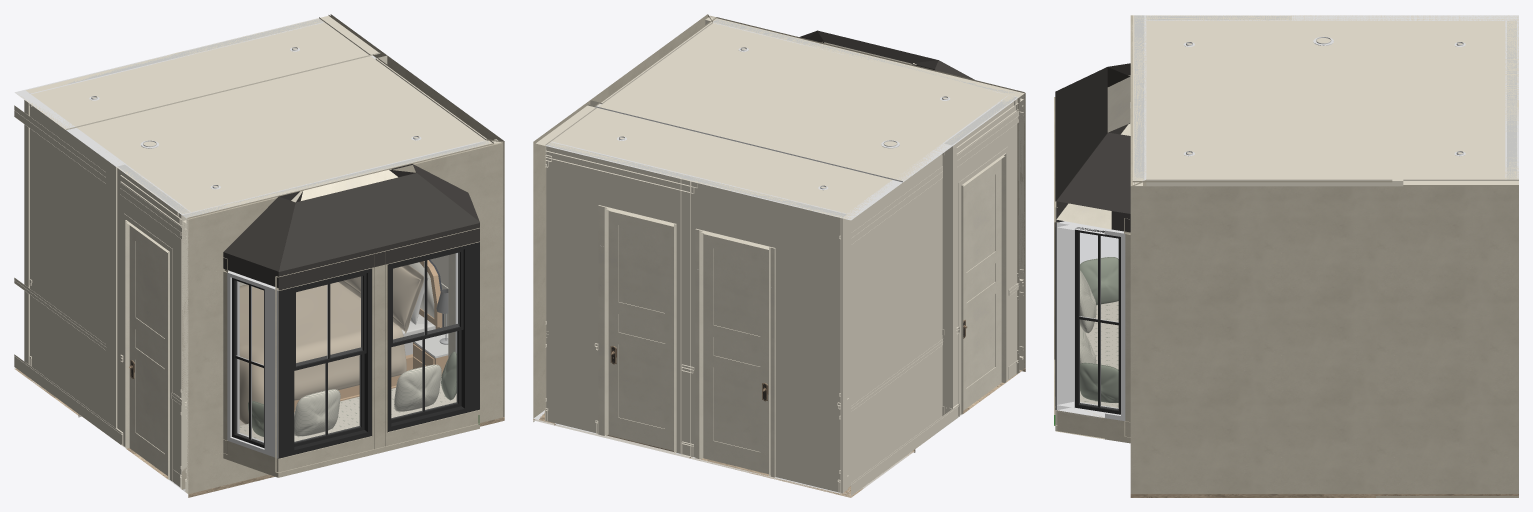
The model's file is loli-bedroom-2bb6bd410b0d.glb.
3 views of the same model, side by side, from view 1: azimuth 30°, elevation 25°; view 2: azimuth 150°, elevation 25°; view 3: azimuth 270°, elevation 25° (orthographic). The views are drawn at different scales.
Parts seen in each view (by area): view 1: loli-bedroom-dbd60ee5c3733ed6, loli-bedroom-93447d0fea18c81b, loli-bedroom-6a1144f4e43410bb, loli-bedroom-fd1c2425c72e98e4, loli-bedroom-daa4f3edc919433a, loli-bedroom-4cda501b4aaed82b, loli-bedroom-2575515a05775d9e, loli-bedroom-7cd33252cebb505d, loli-bedroom-527014f532f46c8e, loli-bedroom-cf6d22c5317ced0b, loli-bedroom-75b75731e5e739a5, loli-bedroom-68d06b361ac47823 (+21 smaller); view 2: loli-bedroom-0e637d2be41161fb, loli-bedroom-dbd60ee5c3733ed6, loli-bedroom-6a1144f4e43410bb, loli-bedroom-eceff908bd344cec, loli-bedroom-5b37b110dc0e2cdc, loli-bedroom-2575515a05775d9e, loli-bedroom-68d06b361ac47823, loli-bedroom-cf6d22c5317ced0b, loli-bedroom-319244b3406409d9, loli-bedroom-93447d0fea18c81b, loli-bedroom-d6b1bc8c737b28e2, loli-bedroom-8cbce1d8f2f8a576 (+14 smaller); view 3: loli-bedroom-592bd9af2ed71797, loli-bedroom-dbd60ee5c3733ed6, loli-bedroom-319244b3406409d9, loli-bedroom-2575515a05775d9e, loli-bedroom-53e6a9e479527da3, loli-bedroom-daa4f3edc919433a, loli-bedroom-131a246e00605616, loli-bedroom-d8b729a36612415b, loli-bedroom-93447d0fea18c81b, loli-bedroom-0e637d2be41161fb, loli-bedroom-ad11484878029c25, loli-bedroom-e0a3201bd49c7536 (+9 smaller).
Boxes of the visible parts, x1,y1,x2,y2 form: loli-bedroom-dbd60ee5c3733ed6: (77, 54, 494, 218); loli-bedroom-93447d0fea18c81b: (181, 140, 502, 494); loli-bedroom-6a1144f4e43410bb: (14, 90, 125, 428); loli-bedroom-fd1c2425c72e98e4: (279, 268, 371, 458); loli-bedroom-daa4f3edc919433a: (278, 169, 479, 290); loli-bedroom-4cda501b4aaed82b: (388, 242, 479, 431); loli-bedroom-2575515a05775d9e: (17, 15, 380, 130); loli-bedroom-7cd33252cebb505d: (239, 282, 406, 424); loli-bedroom-527014f532f46c8e: (227, 271, 278, 458); loli-bedroom-cf6d22c5317ced0b: (129, 225, 167, 475); loli-bedroom-75b75731e5e739a5: (277, 264, 478, 477); loli-bedroom-68d06b361ac47823: (116, 164, 190, 487); loli-bedroom-0e637d2be41161fb: (545, 141, 847, 493); loli-bedroom-dbd60ee5c3733ed6: (595, 17, 1024, 182); loli-bedroom-6a1144f4e43410bb: (842, 143, 952, 495); loli-bedroom-eceff908bd344cec: (608, 210, 673, 450); loli-bedroom-5b37b110dc0e2cdc: (703, 233, 768, 474); loli-bedroom-2575515a05775d9e: (535, 104, 892, 220); loli-bedroom-68d06b361ac47823: (942, 96, 1018, 420); loli-bedroom-cf6d22c5317ced0b: (963, 159, 1001, 410); loli-bedroom-319244b3406409d9: (533, 100, 601, 419); loli-bedroom-93447d0fea18c81b: (709, 15, 1025, 372); loli-bedroom-d6b1bc8c737b28e2: (695, 228, 775, 477); loli-bedroom-8cbce1d8f2f8a576: (961, 153, 1006, 414); loli-bedroom-592bd9af2ed71797: (1130, 179, 1392, 493); loli-bedroom-dbd60ee5c3733ed6: (1132, 15, 1403, 182); loli-bedroom-319244b3406409d9: (1392, 179, 1518, 493); loli-bedroom-2575515a05775d9e: (1403, 15, 1518, 186); loli-bedroom-53e6a9e479527da3: (1056, 221, 1125, 421); loli-bedroom-daa4f3edc919433a: (1055, 67, 1130, 221); loli-bedroom-131a246e00605616: (1056, 124, 1130, 232); loli-bedroom-d8b729a36612415b: (1055, 234, 1130, 443); loli-bedroom-93447d0fea18c81b: (1130, 15, 1146, 185); loli-bedroom-0e637d2be41161fb: (1505, 20, 1518, 179); loli-bedroom-ad11484878029c25: (1147, 177, 1391, 186); loli-bedroom-e0a3201bd49c7536: (1080, 301, 1118, 407).
Size of the model in its own units: 3.62 by 3.05 by 4.12.
43 materials, 8 textured.
